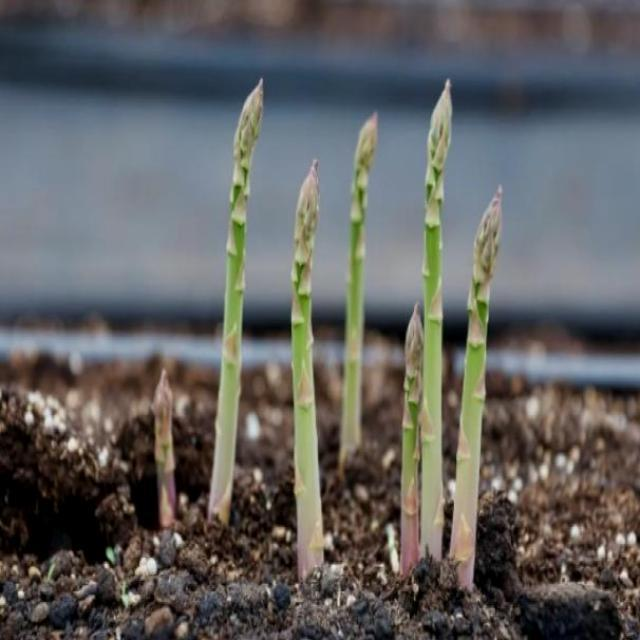aspargus: (290, 160, 324, 583)
